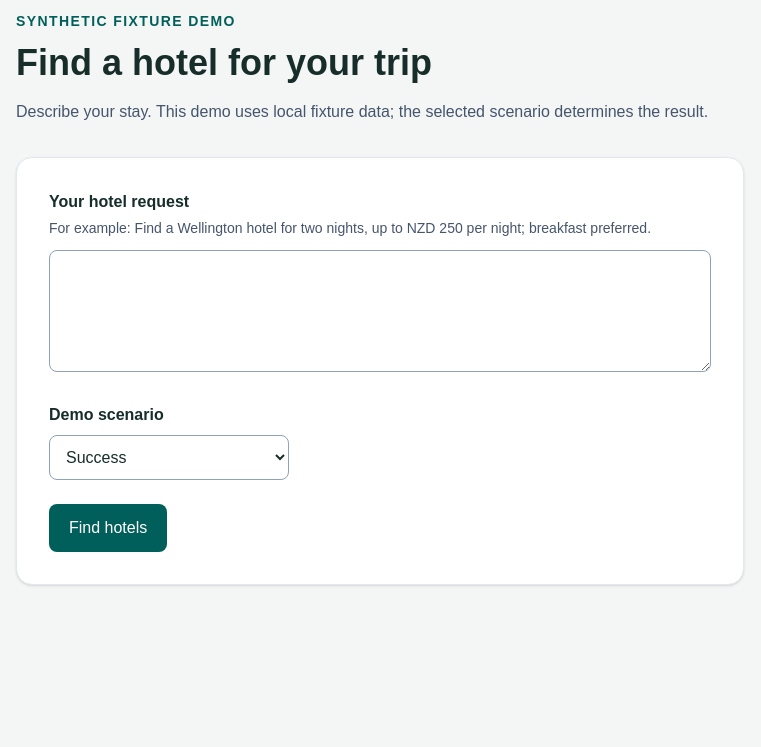
Test: recommendation request journey › keeps error selected on retry and never retries automatically
The image size is (761, 747).
Later steps or results of the test are not shown.
Type "Find a Wellington hotel for two nights." into the text box labelled "Your hotel request" at (380, 311), box [49,250,711,372]
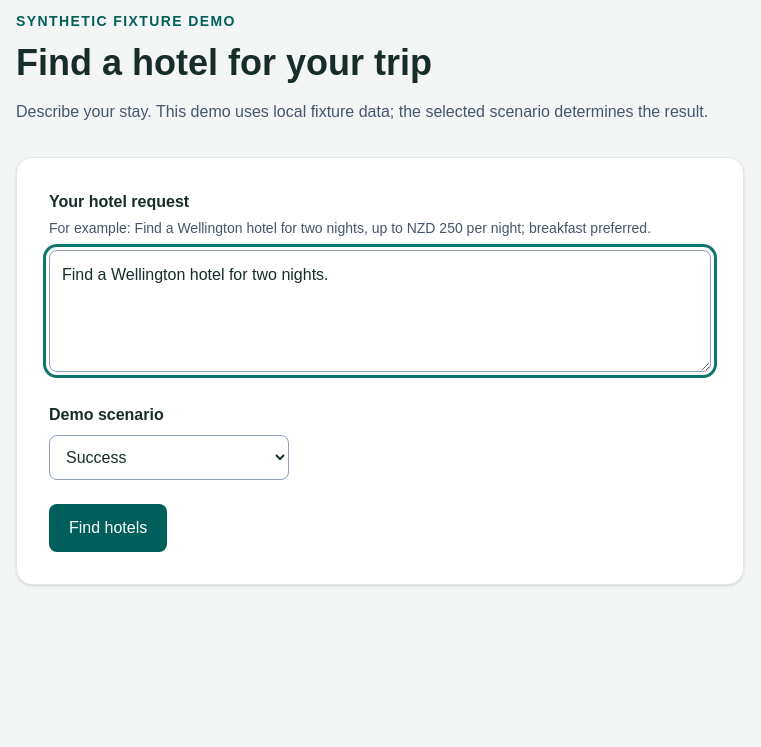
Select "Error" in the dropdown labelled "Demo scenario" at (169, 458), box [49,435,289,480]
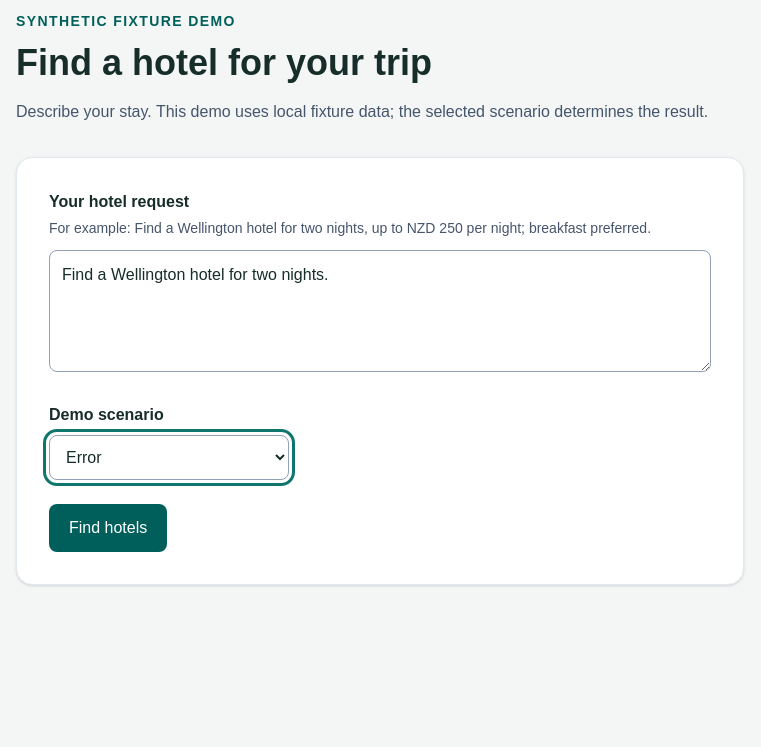
Click the button "Find hotels" at (108, 528), box [49,504,167,552]
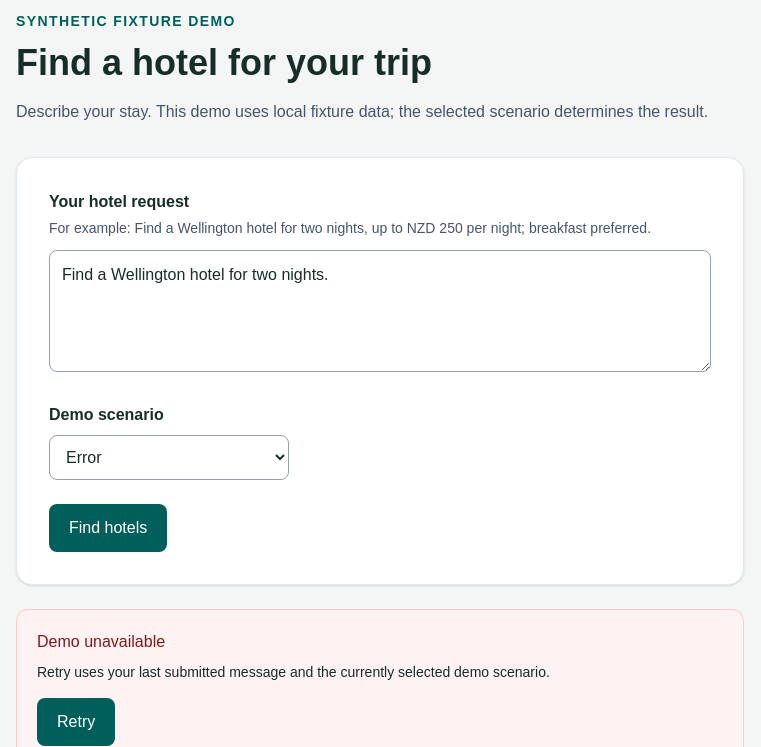
Now the message "Demo unavailable" is shown, box [37,633,165,650]
